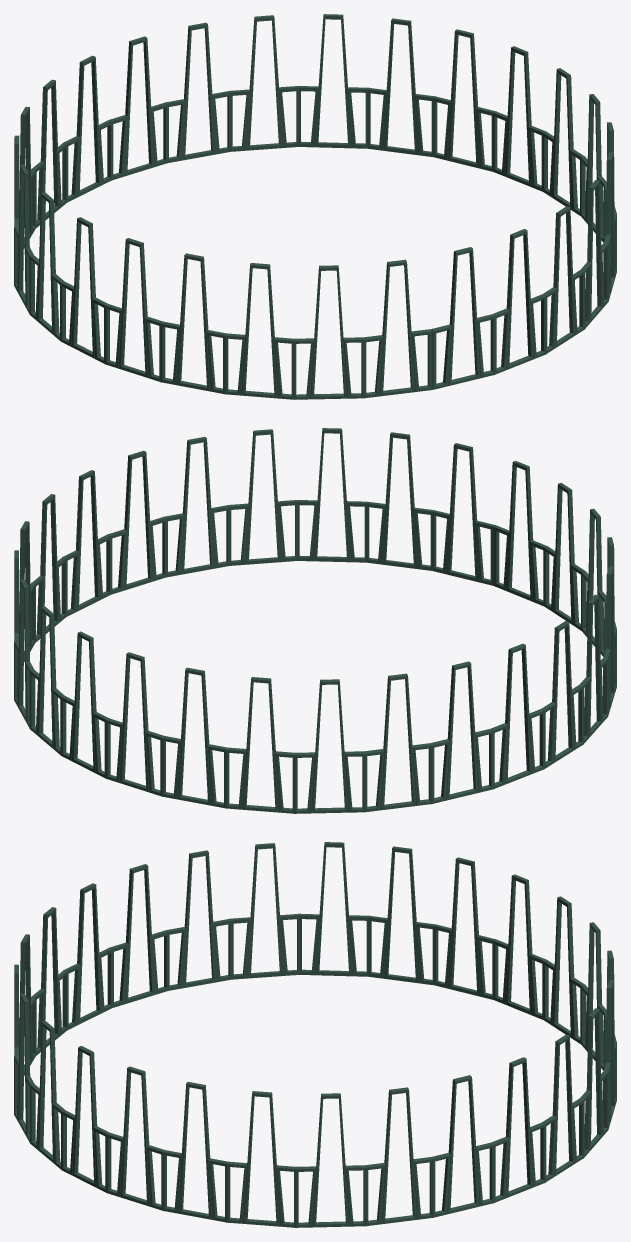
The model's file is huissieres_vitre_tour.fbx.
3 views of the same model, one above another, from view 1: azimuth 30°, elevation 25°; view 2: azimuth 150°, elevation 25°; view 3: azimuth 270°, elevation 25° (orthographic).
Visible parts, largest first — view 1: Plane.001; view 2: Plane.001; view 3: Plane.001.
Part boxes in pixels (<box>): Plane.001: <box>14,14,616,399</box>; Plane.001: <box>14,428,616,813</box>; Plane.001: <box>14,842,616,1227</box>.
Size of the model in its own units: 3233 by 778 by 3227.
